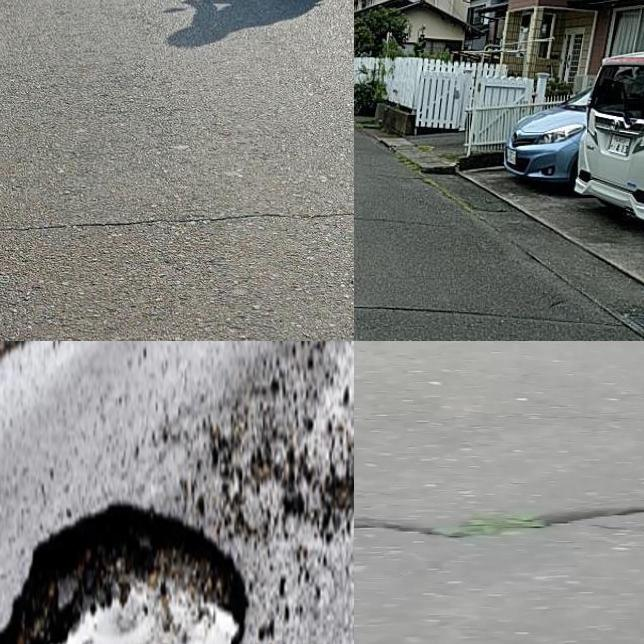Lubang: (4, 500, 243, 644)
Melintang: (0, 196, 354, 248), (354, 496, 644, 552), (354, 296, 630, 332)
